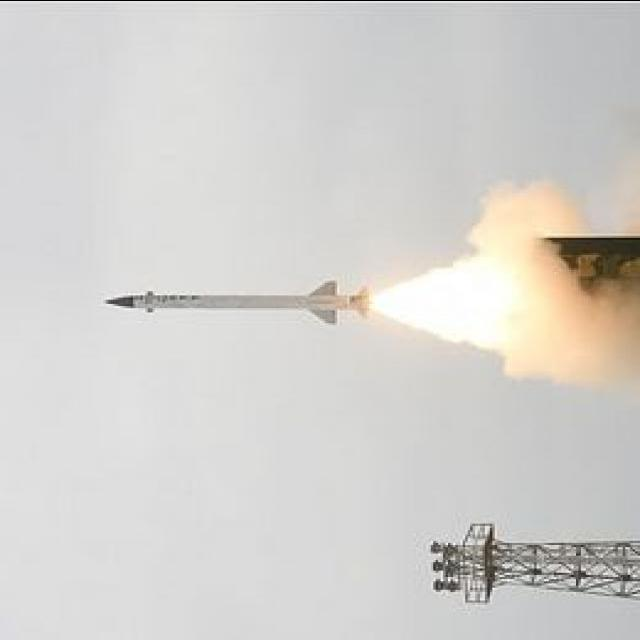missile: (100, 278, 372, 326)
